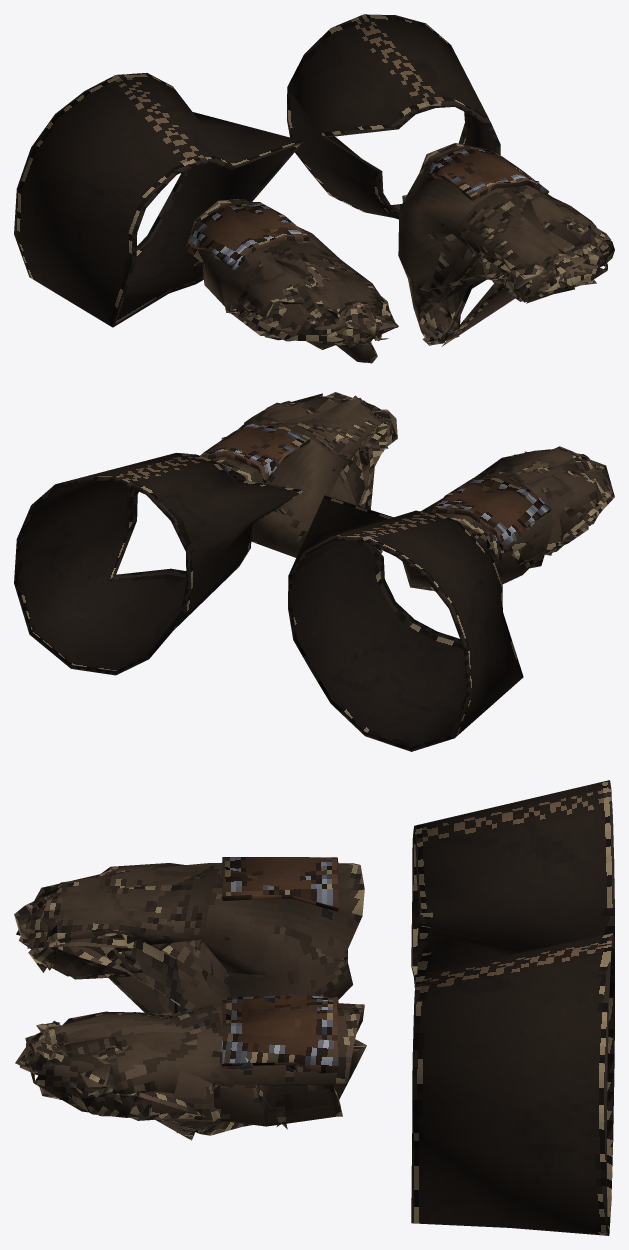
Rendered from gants_cuir.glb.
3 views of the same model, one above another, from view 1: azimuth 30°, elevation 25°; view 2: azimuth 150°, elevation 25°; view 3: azimuth 270°, elevation 25° (orthographic). The views are drawn at different scales.
Visible parts, largest first — view 1: gants_cuir_sol; view 2: gants_cuir_sol; view 3: gants_cuir_sol.
Boxes of the visible parts, x1,y1,x2,y2 form: gants_cuir_sol: (14,14,614,363); gants_cuir_sol: (14,392,614,751); gants_cuir_sol: (14,780,614,1235).
Bounding box in the file's own units: 0.4414 × 0.1883 × 0.3918.
1 material, 1 textured.
